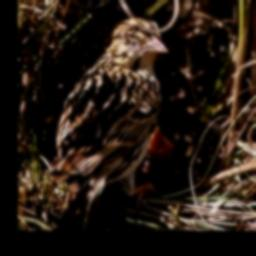Sparrow: (47, 17, 171, 230)
